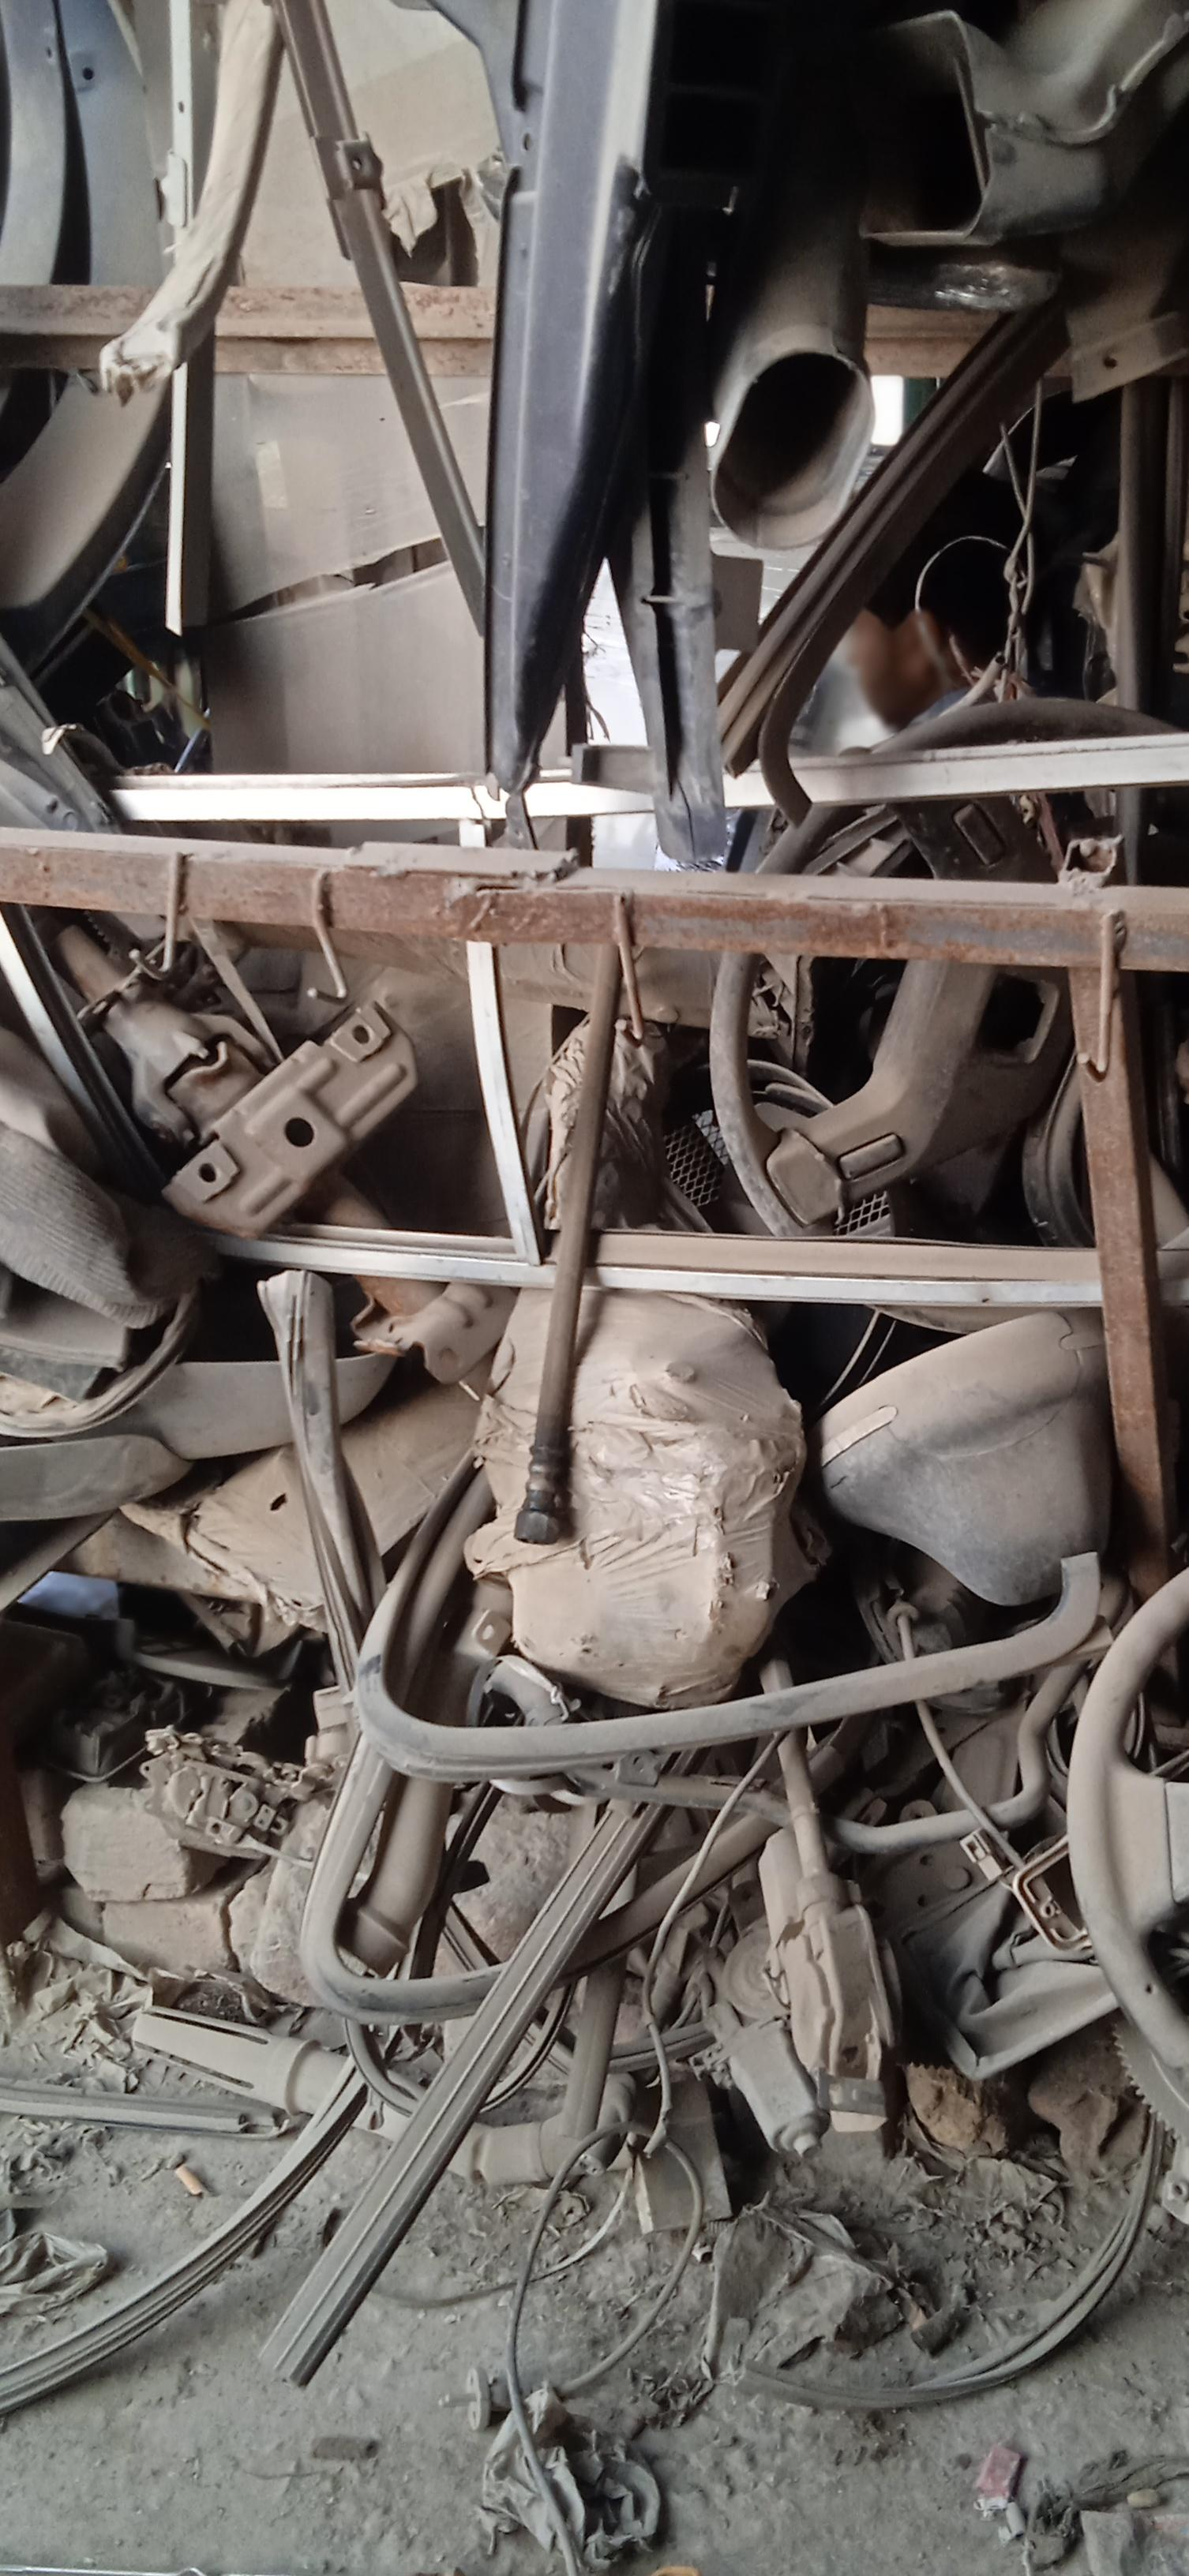automobile: (0, 0, 1189, 2572)
